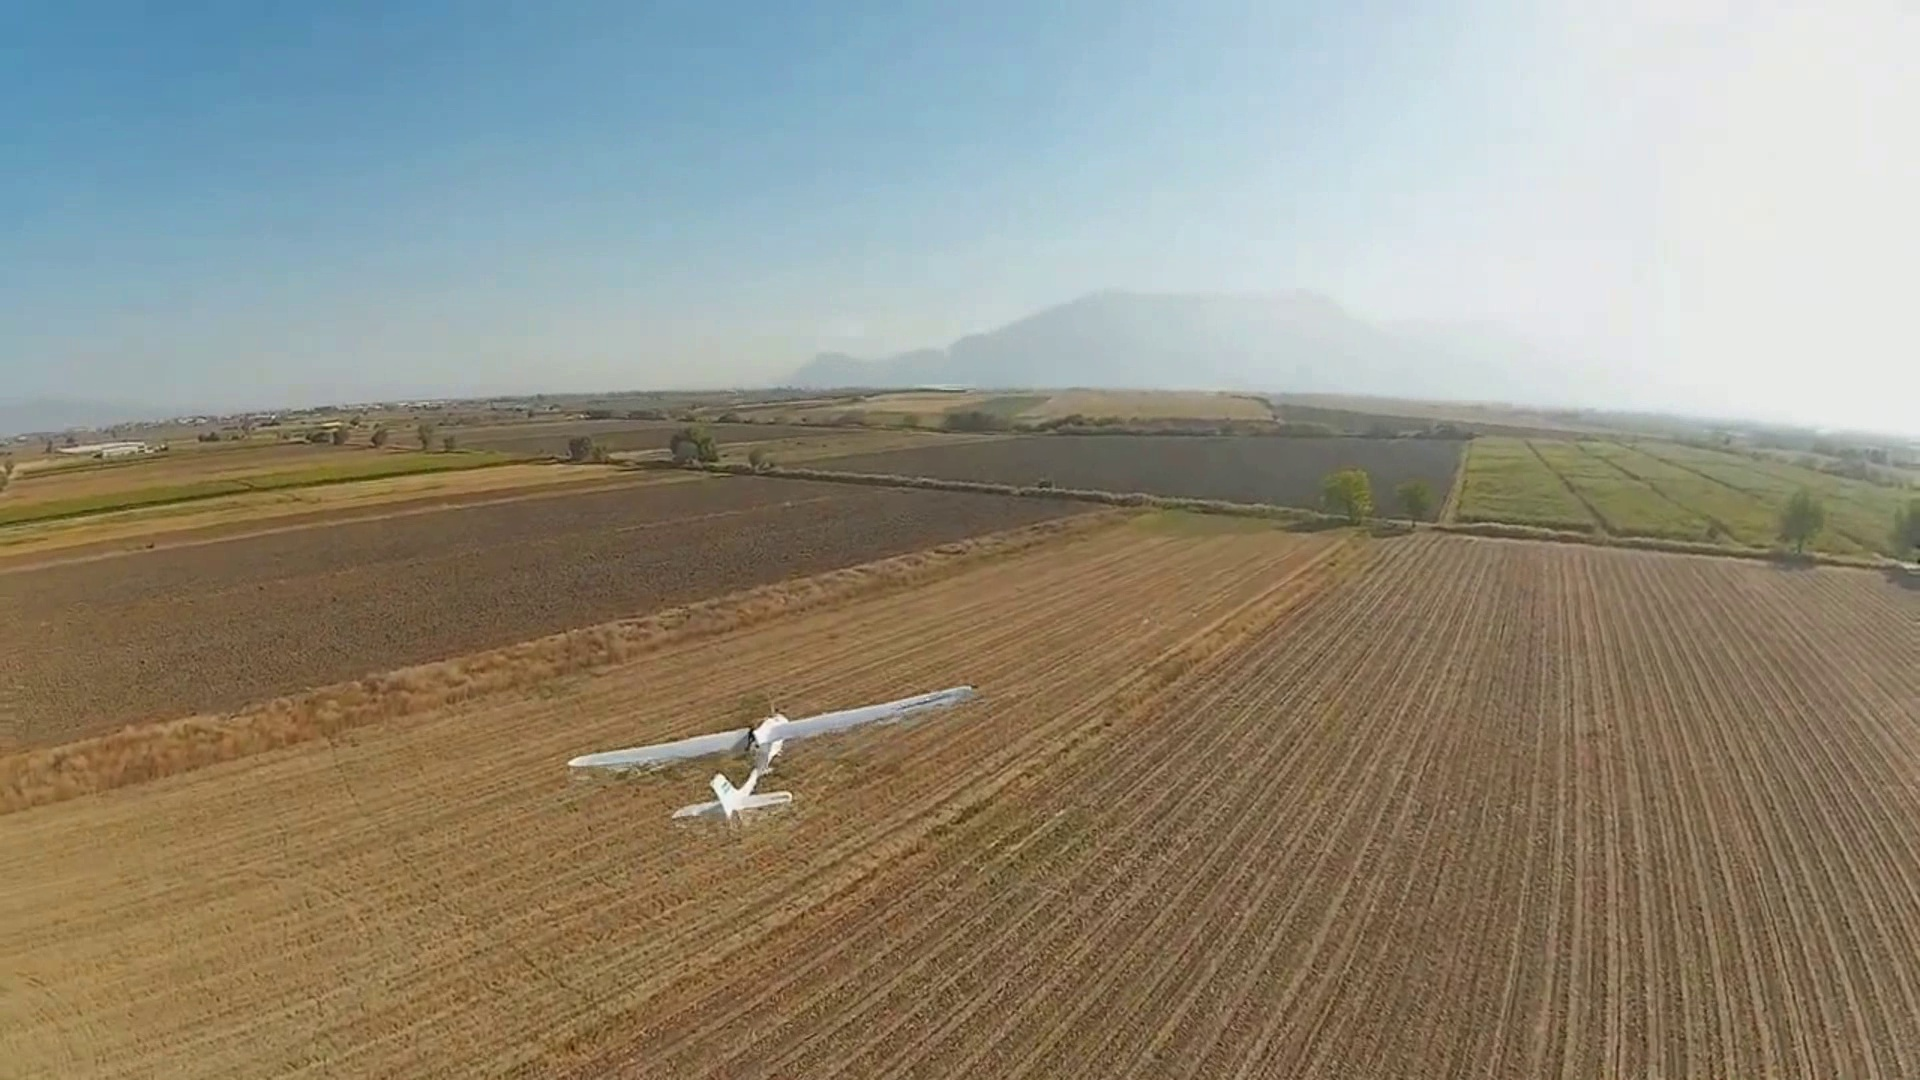airplane: (568, 686, 979, 819)
